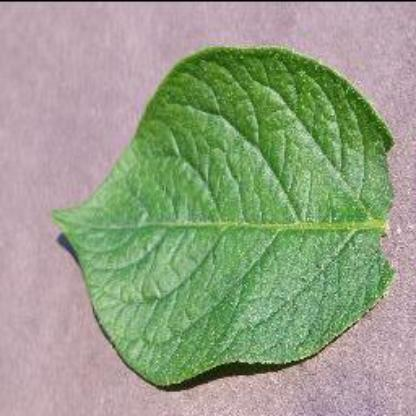Healthy-plant: (41, 44, 401, 388)
